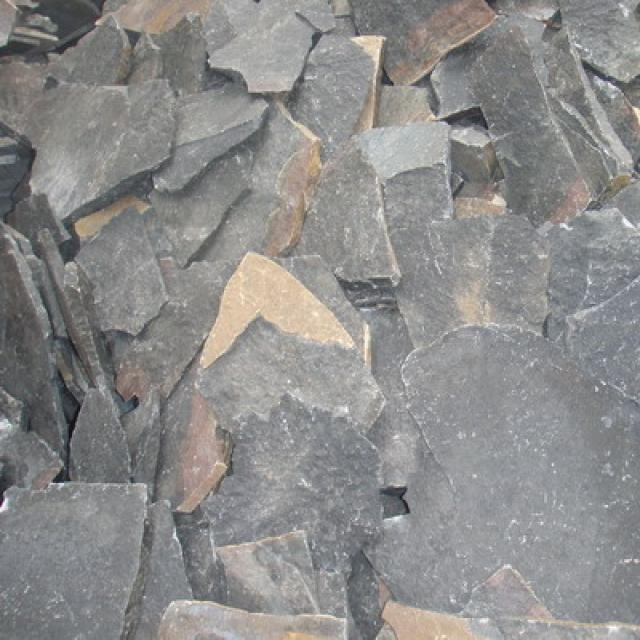Pecahan Agregat: (35, 38, 571, 616)
